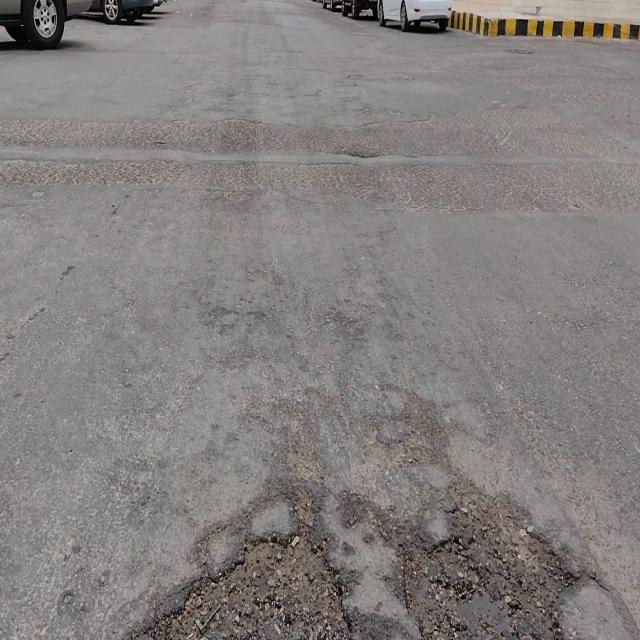Pothole: (131, 490, 360, 640), (401, 469, 584, 640)
